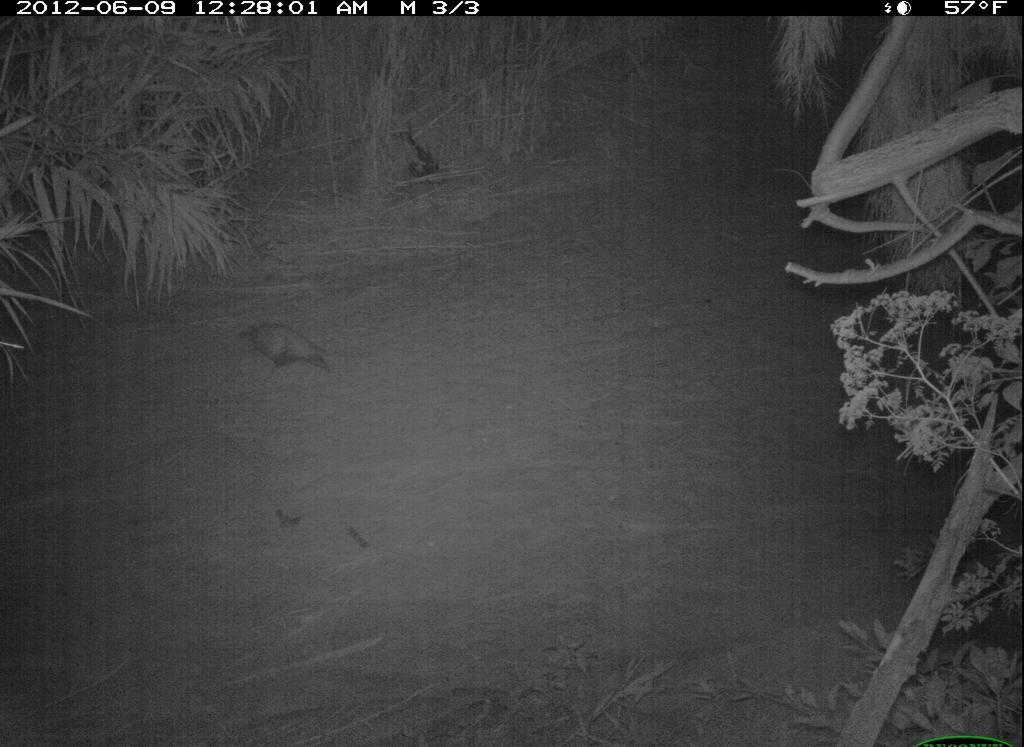opossum: (227, 308, 350, 383)
